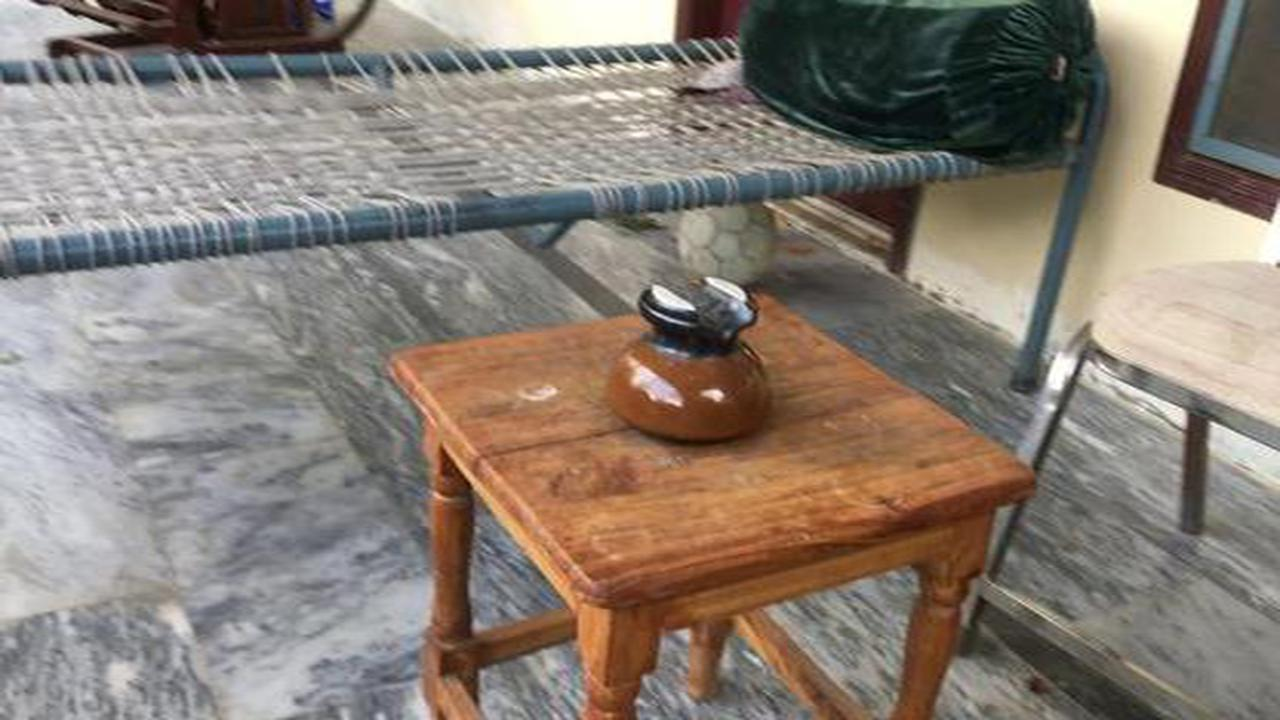insulator_pin: (588, 254, 804, 451)
